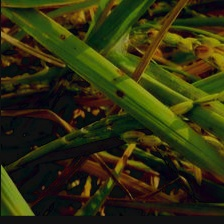Bacterial_Leaf_Blight: (113, 86, 130, 100), (53, 33, 75, 42)
